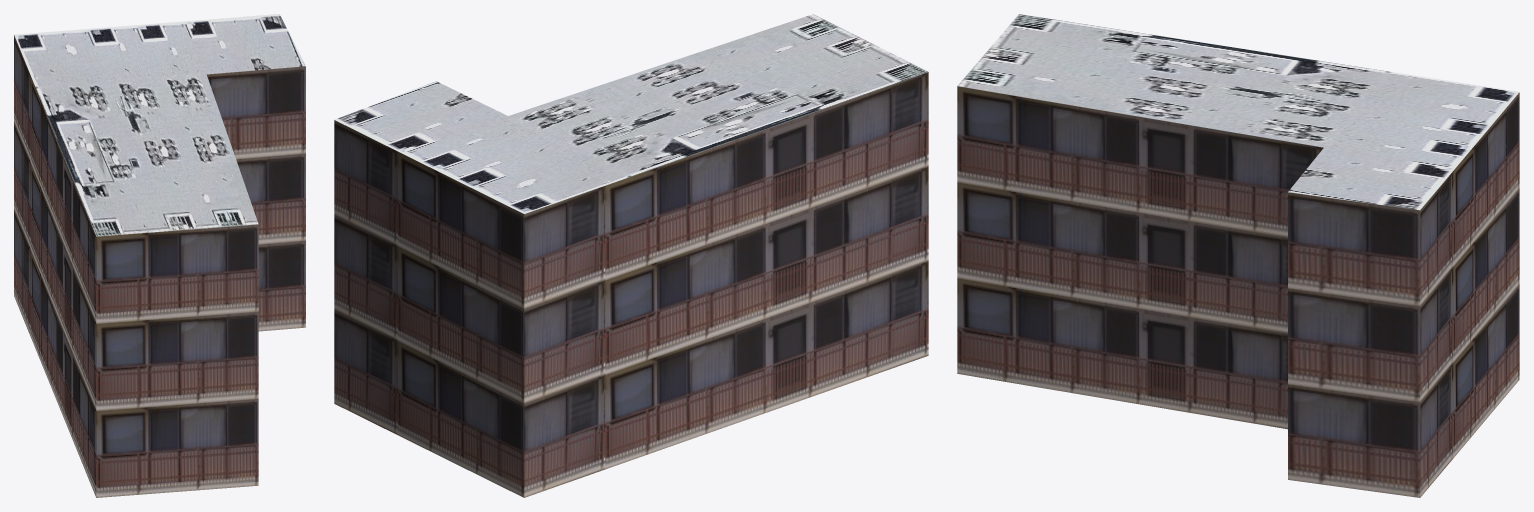
File: ResTex__380.fbx
The picture shows the model from 3 angles, left to right: view 1: azimuth 30°, elevation 25°; view 2: azimuth 150°, elevation 25°; view 3: azimuth 270°, elevation 25°; orthographic projection. The views are drawn at different scales.
Parts seen in each view (by area): view 1: CityEngineMaterial_6_m, CityEngineMaterial_m; view 2: CityEngineMaterial_6_m, CityEngineMaterial_m; view 3: CityEngineMaterial_6_m, CityEngineMaterial_m.
Boxes of the visible parts, bbox=[...] form: CityEngineMaterial_6_m: bbox=[14, 35, 305, 497]; CityEngineMaterial_m: bbox=[14, 14, 305, 236]; CityEngineMaterial_6_m: bbox=[334, 72, 928, 497]; CityEngineMaterial_m: bbox=[334, 14, 928, 213]; CityEngineMaterial_6_m: bbox=[957, 86, 1519, 497]; CityEngineMaterial_m: bbox=[957, 14, 1519, 210].
Size of the model in its own units: 13.17 by 9 by 15.94.
Materials: 2 (2 with a texture image).
